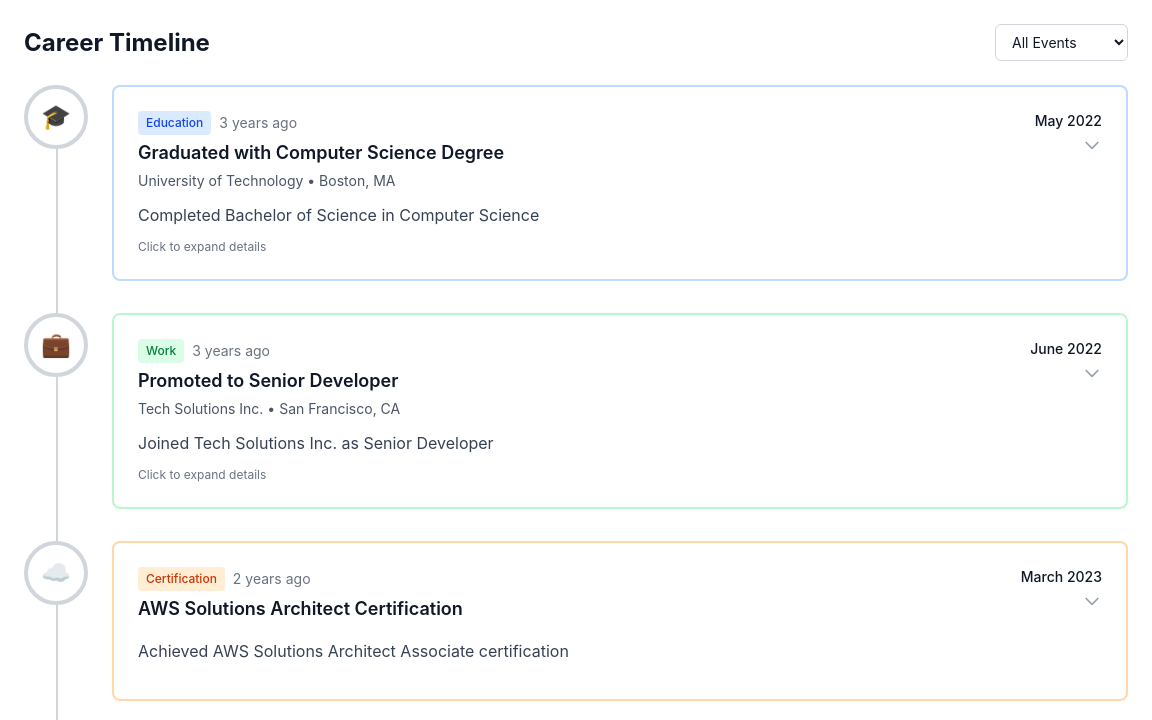
Test: TimelineSection › should filter milestones by type
The width and height of the screenshot is (1152, 720).
# Filter by education
Select "Education" in the dropdown showing "All Events": (1062, 42) [995,24,1128,61]
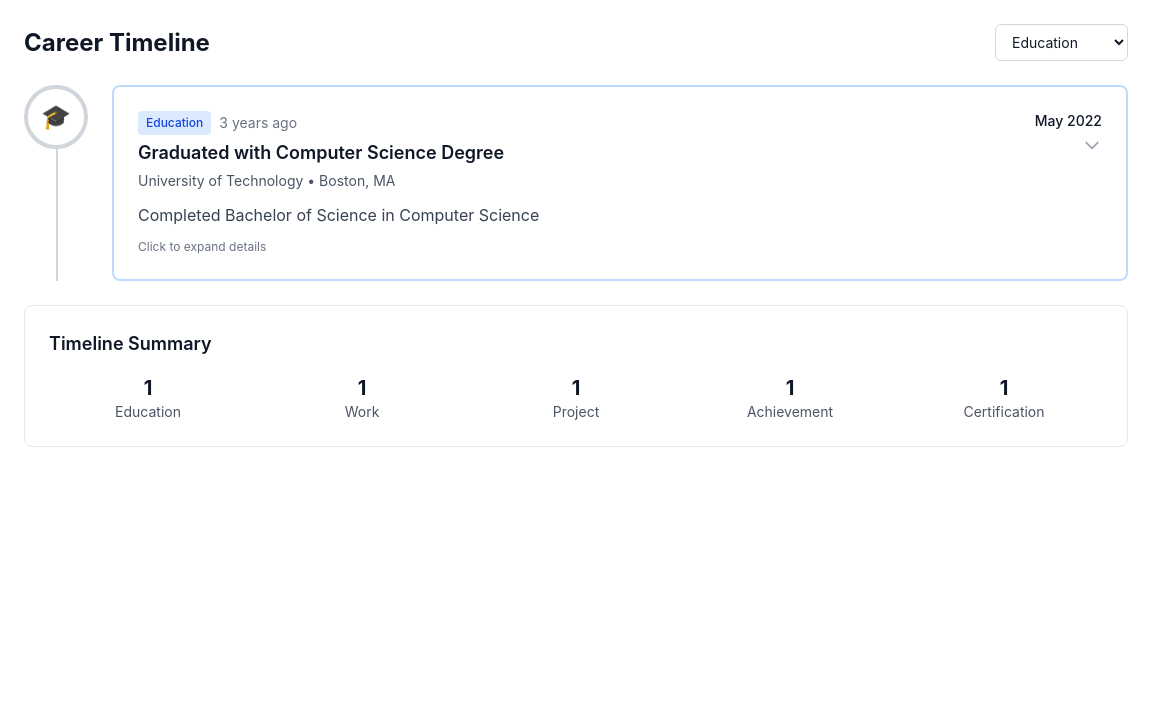
Expected: the heading "Graduated with Computer Science Degree" is shown, [138,142,504,163]
Expected: the heading "Promoted to Senior Developer" is gone
Expected: the heading "AWS Solutions Architect Certification" is gone
